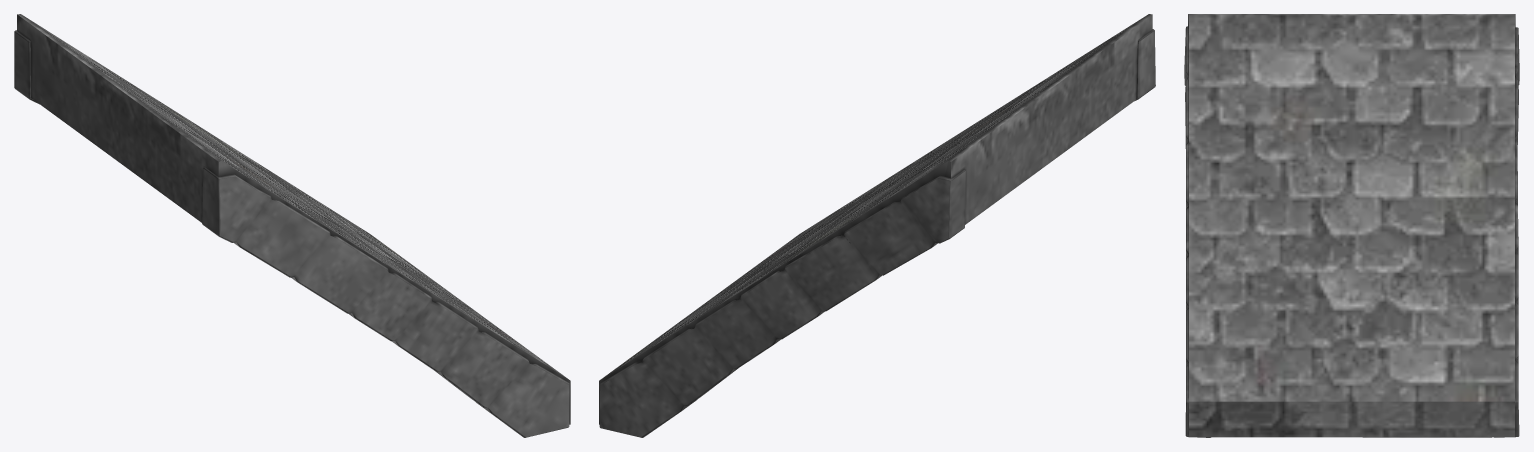
Rendered from SM_RoofB_Stone_a477d2.glb.
3 renders of one model, left to right at view 1: azimuth 30°, elevation 25°; view 2: azimuth 150°, elevation 25°; view 3: azimuth 270°, elevation 25°, orthographic. The views are drawn at different scales.
Bounding box in the file's own units: 4.08 × 3.87 × 4.12.
Materials: 1 (1 with a texture image).
